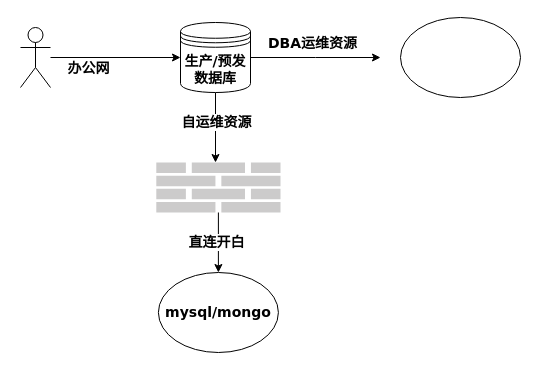
This 538x370 diagram has some shape labels left out. The shapes that lost their labels are listed below. From the top down, each one's centre as x and y in pixels, then its label:
pixel 35 57: User
pixel 460 57: XMEN平台
